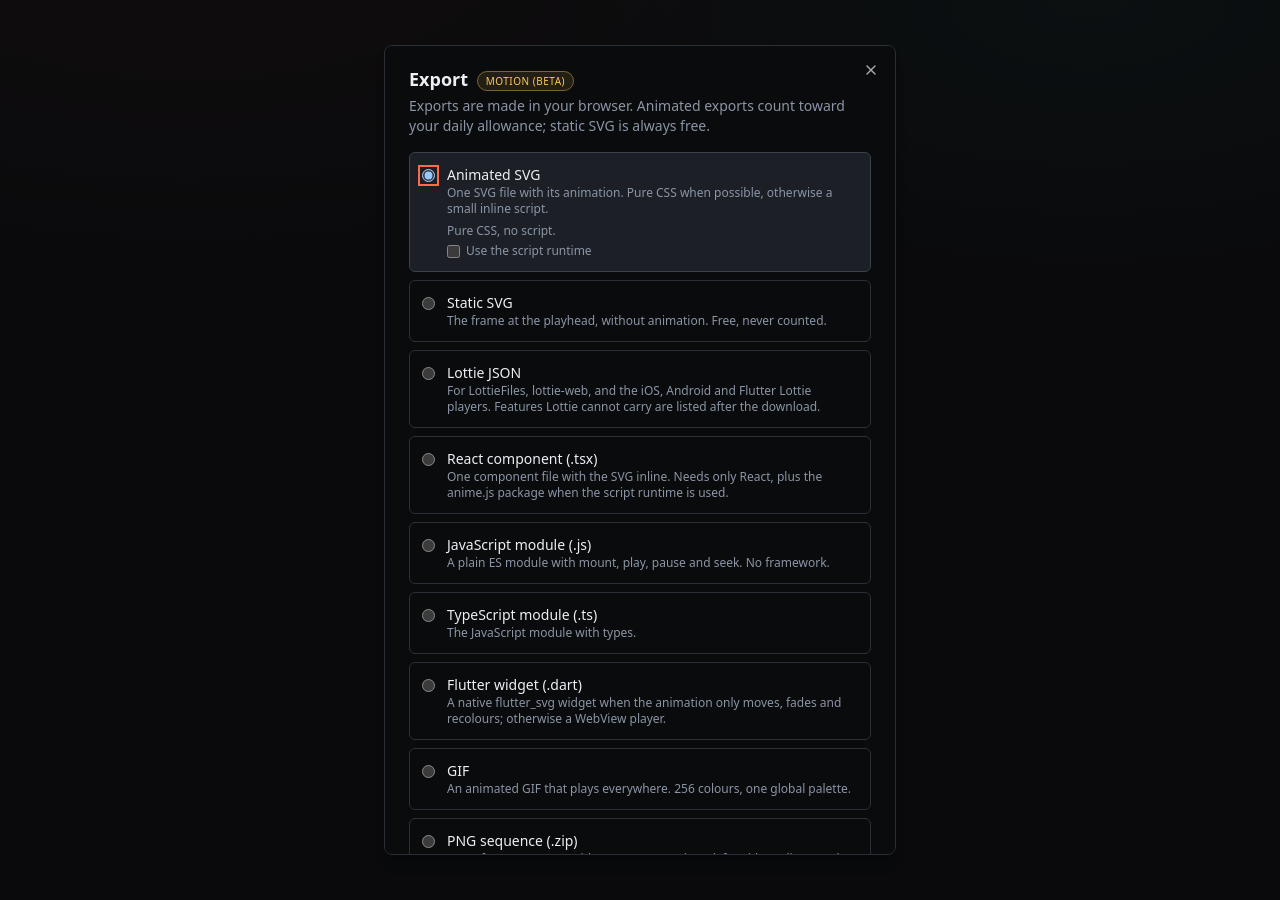
Test: MM46: Lottie and code exports in the dialog › {} counts as js_ts first, then downloads Bounce.js
This screenshot has width=1280, height=900.
Step 1. Click the radio button labelled "JavaScript module" → [428, 546], box [422,539,435,552]
(page scrolled)
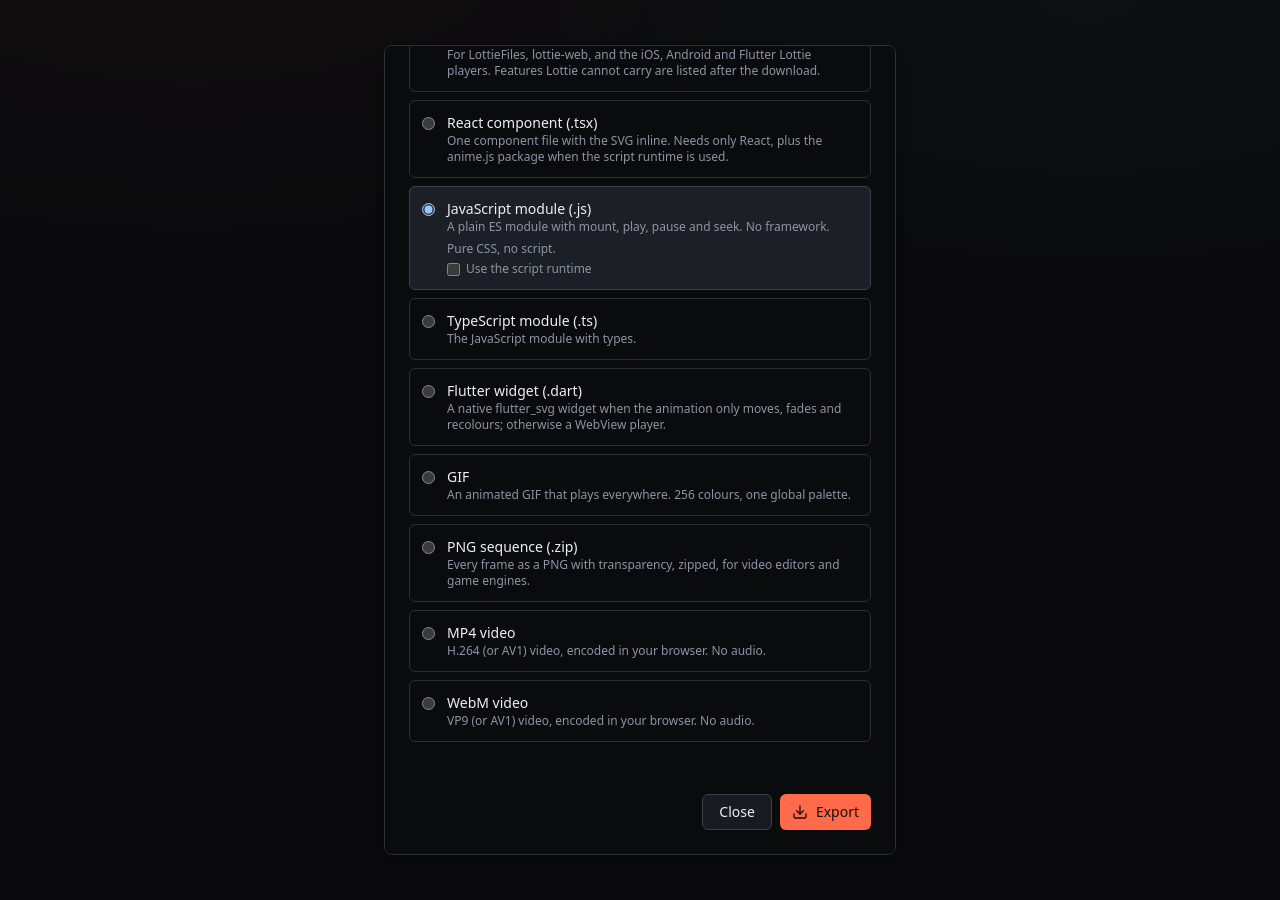
Step 2. Click the button "Export" → [825, 812], box [780,794,871,830]
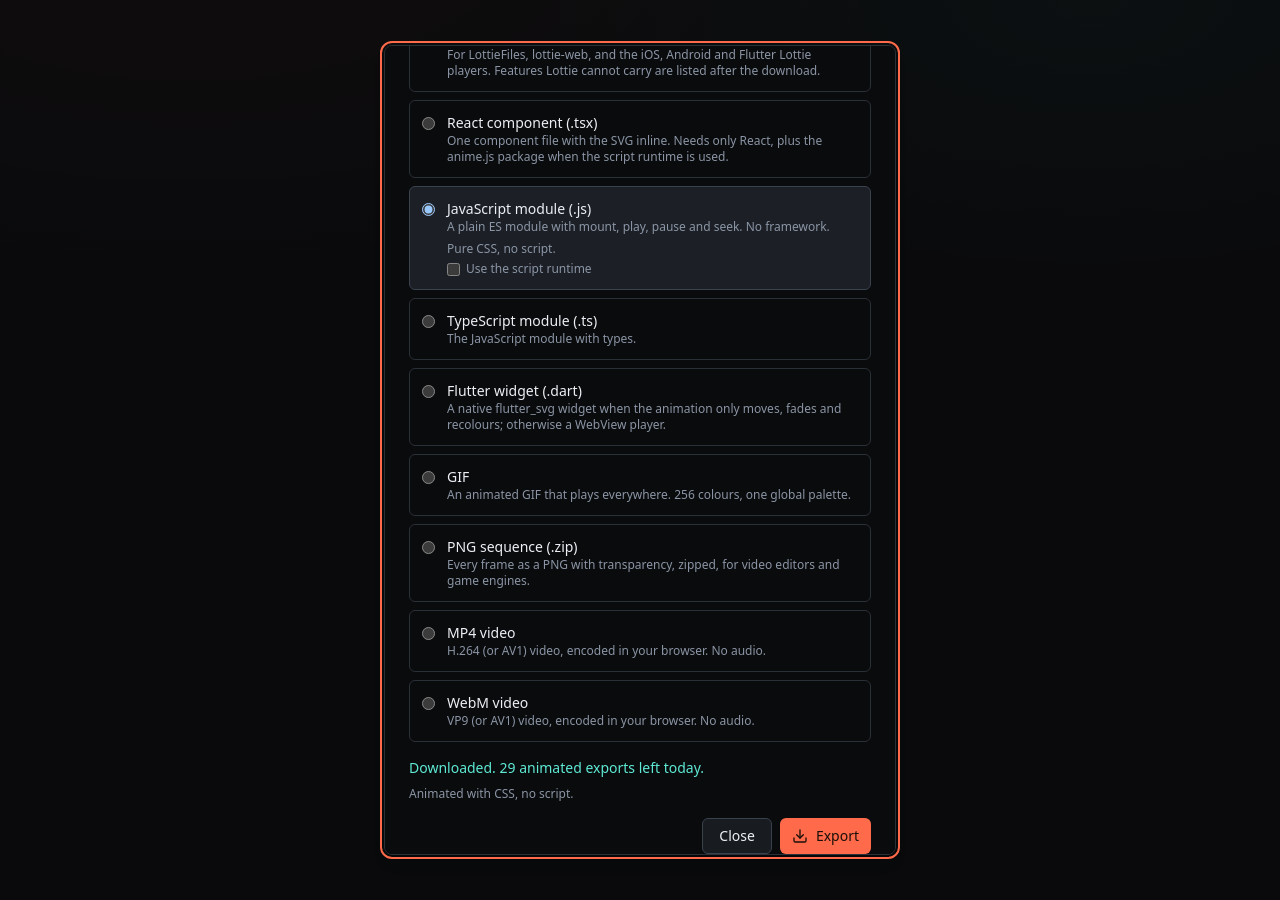
Expected: the message with test id "vector-export-status" shows "29 animated exports left today.", [409,758,704,777]
